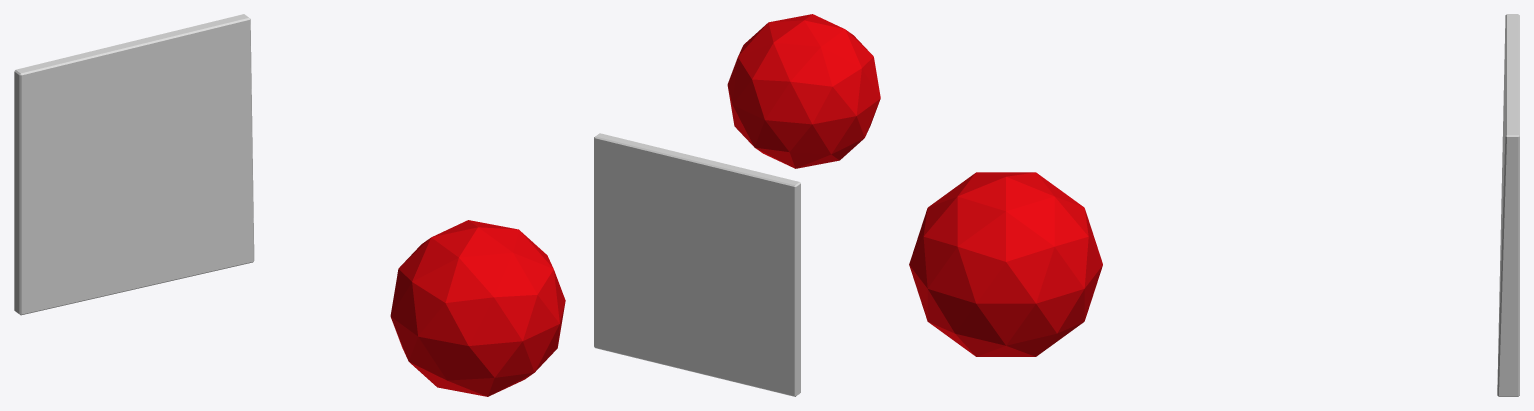
Rendered from glass.glb.
The picture shows the model from 3 angles, left to right: view 1: azimuth 30°, elevation 25°; view 2: azimuth 150°, elevation 25°; view 3: azimuth 270°, elevation 25°; orthographic projection. The views are drawn at different scales.
Visible parts, largest first — view 1: Glass, Icosphere; view 2: Glass, Icosphere; view 3: Icosphere, Glass.
Boxes of the visible parts, box(x1,y1,x2,y2) form: Glass: box(14, 14, 254, 315); Icosphere: box(390, 220, 565, 396); Glass: box(594, 133, 800, 396); Icosphere: box(727, 14, 880, 168); Icosphere: box(909, 172, 1102, 356); Glass: box(1497, 14, 1519, 396).
Size of what is drawn, in the model's own units: 2.61 by 2 by 4.22.
